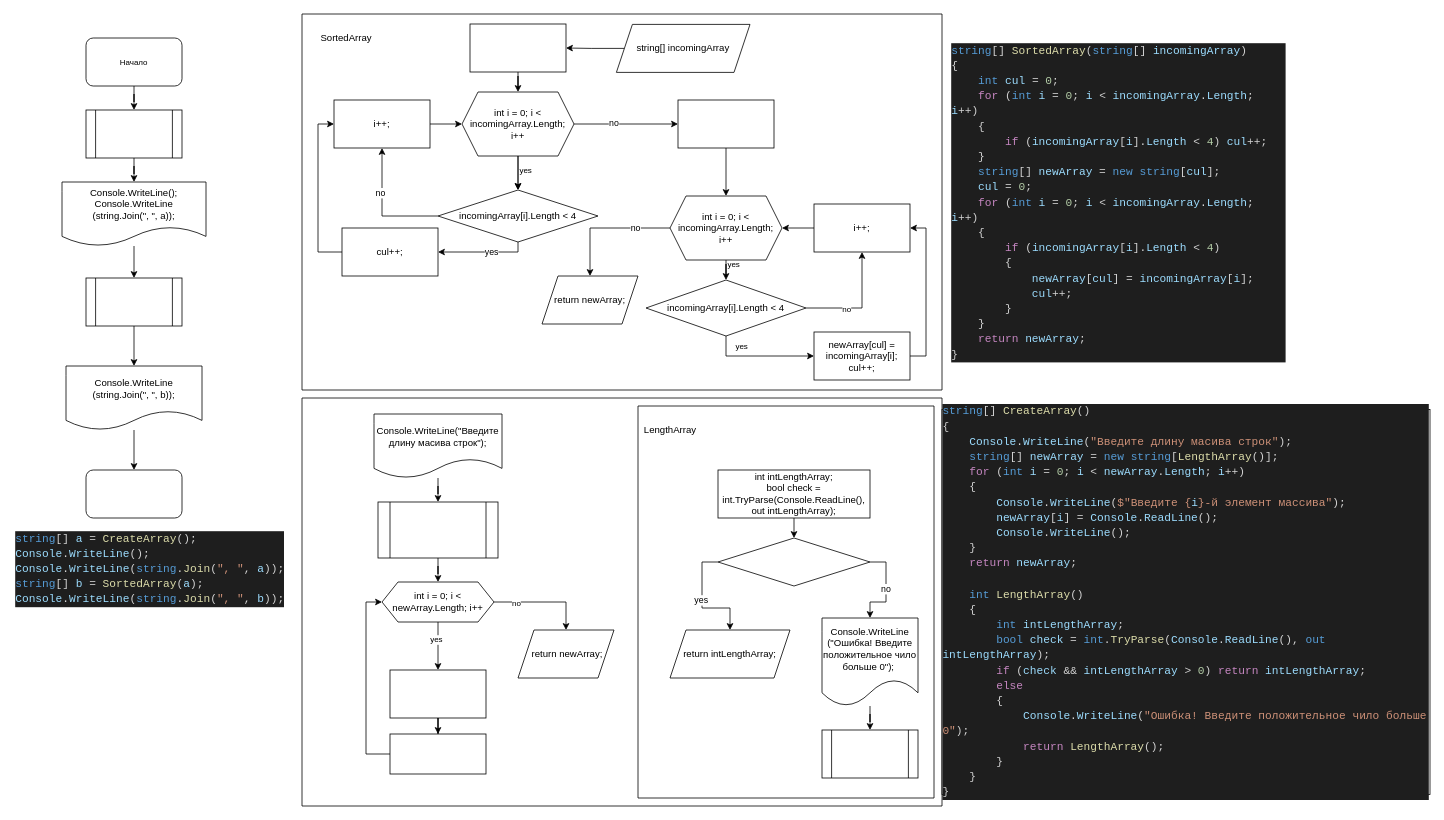
Image size: 1444x820. Some labels were removed from this diagram. The centre of each missing label's shape, as x and y in pixels:
check && intLengthArray > 0: [793,561]
Console.WriteLine ($"Введите {i}-й элемент массива");: [437,693]
int cul = 0;: [517,47]
newArray[i] = Console.ReadLine(); Console.WriteLine();: [437,753]
return LengthArray();: [869,753]
string[] a = CreateArray();: [133,133]
string[] b = SortedArray(a);: [133,301]
string[] newArray = new string[cul]; cul = 0;: [725,123]
string[] newArray = new string[LengthArray()];: [437,529]
Конец: [133,493]
